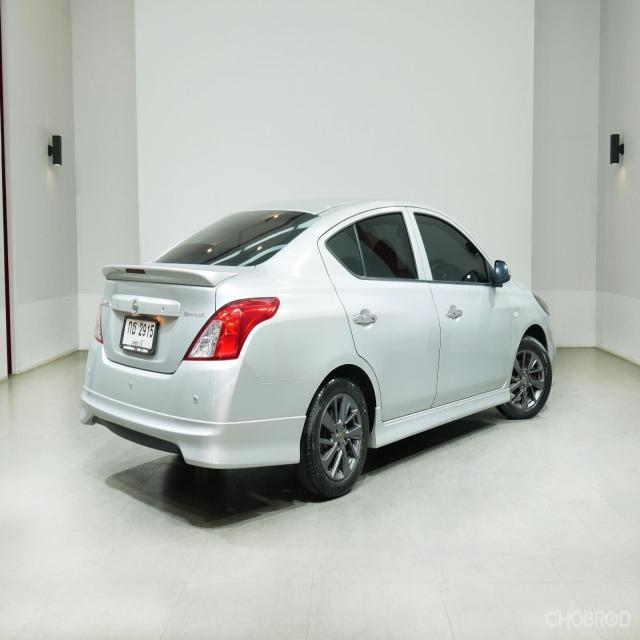license_plate: (120, 314, 158, 358)
